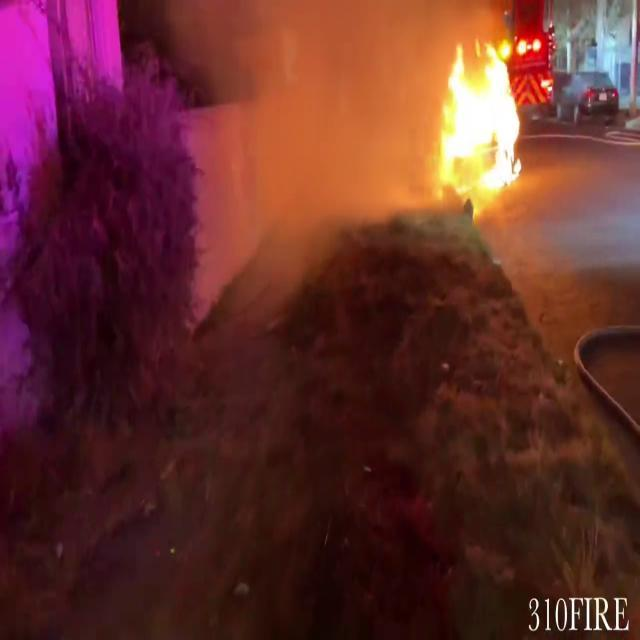Fire: (428, 30, 534, 199)
Smoke: (170, 0, 454, 318)
